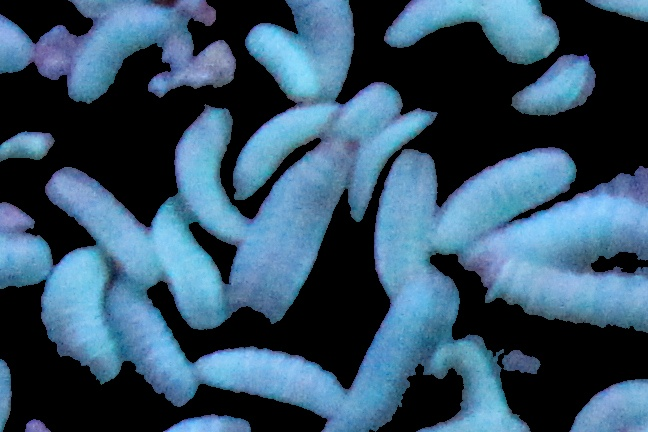larvae: (229, 139, 364, 319), (328, 277, 459, 432), (433, 145, 577, 250), (47, 168, 159, 284), (480, 258, 648, 332), (39, 243, 123, 386), (190, 344, 343, 419), (107, 278, 196, 404), (65, 10, 182, 103), (505, 182, 648, 256), (174, 107, 248, 245), (154, 196, 230, 329), (347, 111, 435, 220), (233, 105, 340, 194), (375, 151, 437, 296), (377, 1, 541, 46), (278, 1, 356, 92), (506, 54, 599, 114), (247, 26, 321, 101), (425, 338, 501, 409), (573, 367, 648, 432), (331, 79, 405, 137), (1, 230, 53, 290)
